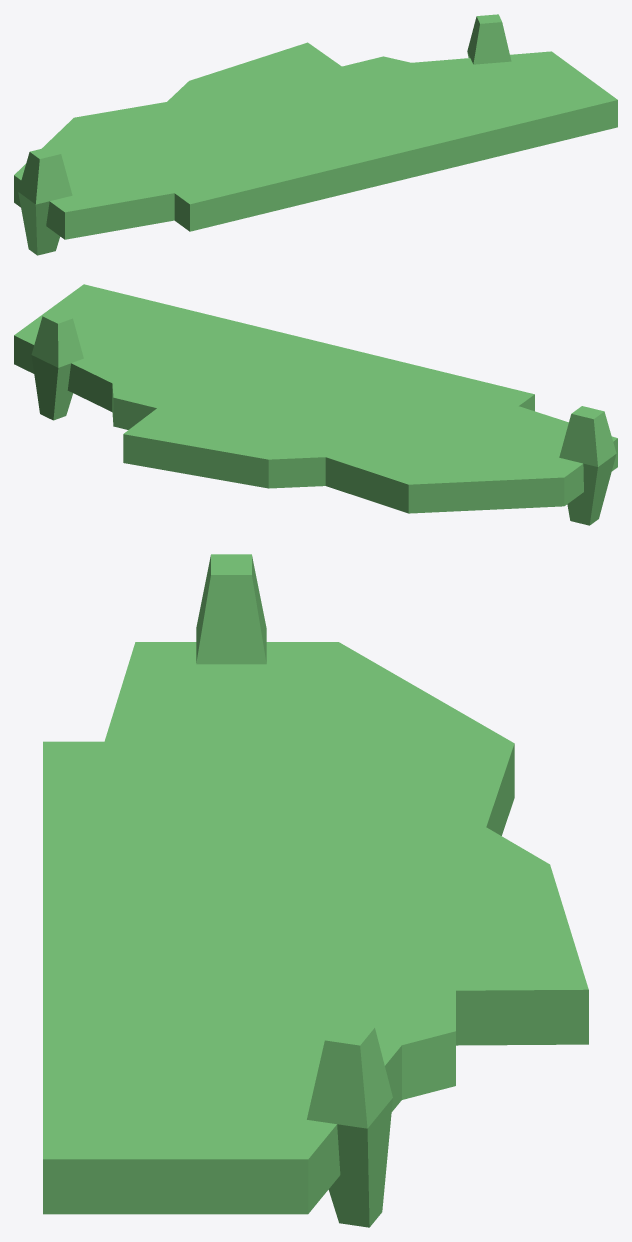
Rendered from x_ZT3_block_26_1_rmstrd.fbx.
3 views of the same model, one above another, from view 1: azimuth 30°, elevation 25°; view 2: azimuth 150°, elevation 25°; view 3: azimuth 270°, elevation 25° (orthographic). The views are drawn at different scales.
Visible parts, largest first — view 1: x_ZT3_block_26_1_rmstrd1; view 2: x_ZT3_block_26_1_rmstrd1; view 3: x_ZT3_block_26_1_rmstrd1.
Part boxes in pixels (bbox=[...]): x_ZT3_block_26_1_rmstrd1: bbox=[14, 14, 617, 255]; x_ZT3_block_26_1_rmstrd1: bbox=[14, 284, 617, 525]; x_ZT3_block_26_1_rmstrd1: bbox=[43, 554, 588, 1227].
Bounding box in the file's own units: 20.47 × 3.58 × 8.89.
